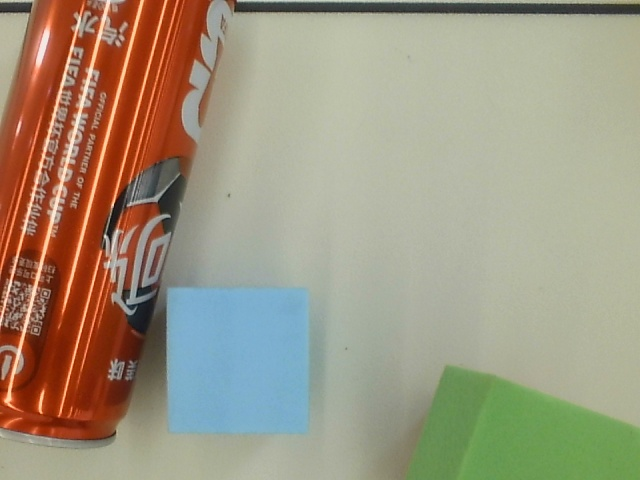bluecube: (164, 286, 314, 437)
cola: (1, 1, 243, 448)
greencube: (398, 360, 640, 480)
